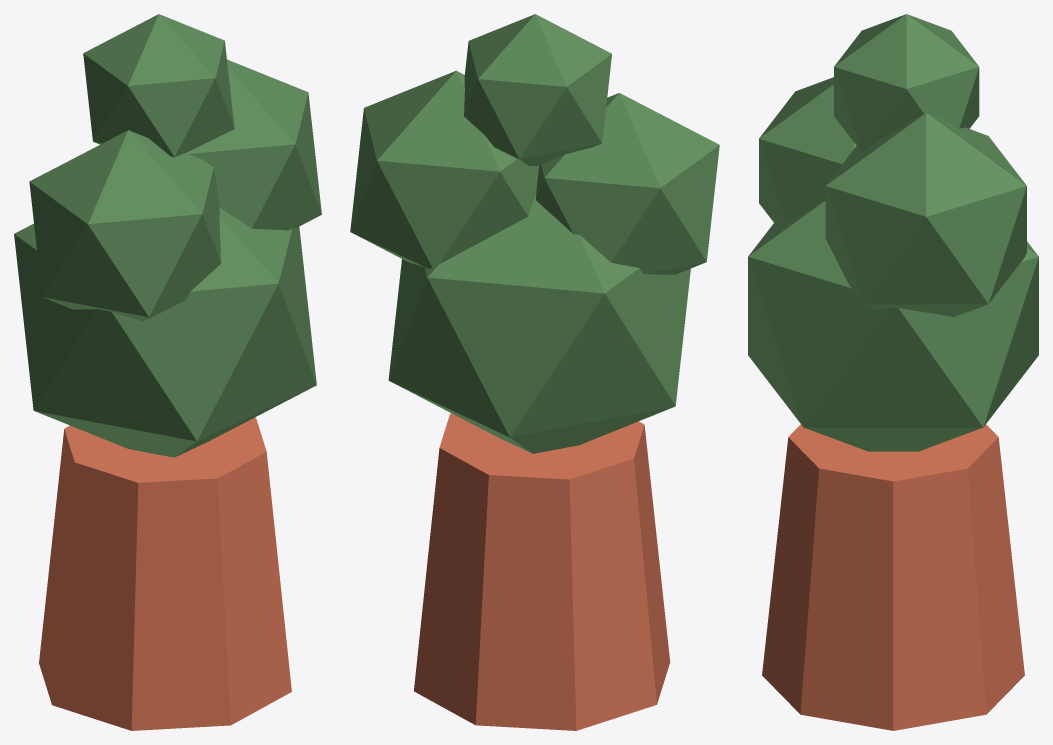
File: plant.glb
The picture shows the model from 3 angles, left to right: view 1: azimuth 30°, elevation 25°; view 2: azimuth 150°, elevation 25°; view 3: azimuth 270°, elevation 25°; orthographic projection.
Parts seen in each view (by area): view 1: Pot, Leaf0, Leaf2, Leaf3, Leaf1; view 2: Pot, Leaf0, Leaf1, Leaf2, Leaf3; view 3: Pot, Leaf0, Leaf1, Leaf3, Leaf2.
Part boxes in pixels (bbox=[...]): Pot: bbox=[39, 417, 291, 730]; Leaf0: bbox=[14, 207, 316, 457]; Leaf2: bbox=[29, 130, 220, 321]; Leaf3: bbox=[83, 14, 234, 157]; Leaf1: bbox=[186, 59, 321, 230]; Pot: bbox=[414, 413, 670, 730]; Leaf0: bbox=[388, 193, 690, 453]; Leaf1: bbox=[350, 70, 539, 268]; Leaf2: bbox=[536, 93, 719, 274]; Leaf3: bbox=[464, 14, 611, 165]; Pot: bbox=[762, 424, 1024, 730]; Leaf0: bbox=[748, 201, 1038, 451]; Leaf1: bbox=[825, 113, 1026, 316]; Leaf3: bbox=[834, 14, 979, 151]; Leaf2: bbox=[759, 77, 856, 222].
Size of the model in its own units: 0.533 by 1.11 by 0.4423.
